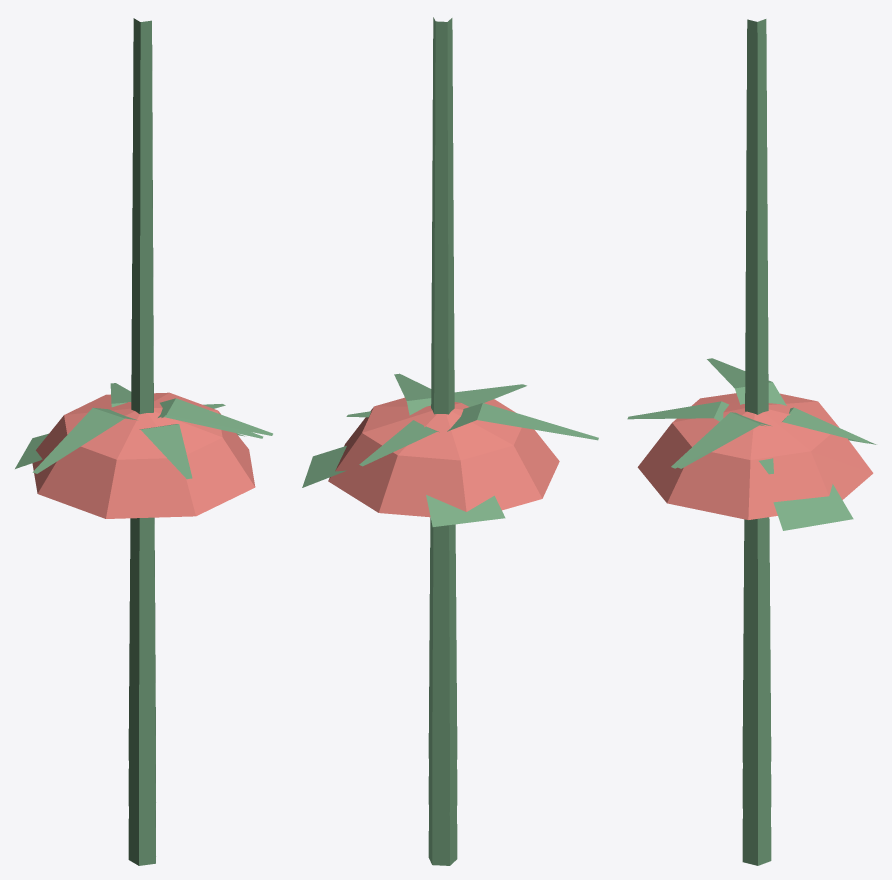
Rendered from nature_flower_red.glb.
3 renders of one model, left to right at view 1: azimuth 30°, elevation 25°; view 2: azimuth 150°, elevation 25°; view 3: azimuth 270°, elevation 25°, orthographic.
Parts seen in each view (by area): view 1: world; view 2: world; view 3: world.
Boxes of the visible parts, box(x1,y1,x2,y2) form: world: box(15, 18, 272, 865); world: box(302, 17, 598, 865); world: box(627, 19, 876, 865).
Bounding box in the file's own units: 0.6207 × 2 × 0.539.
